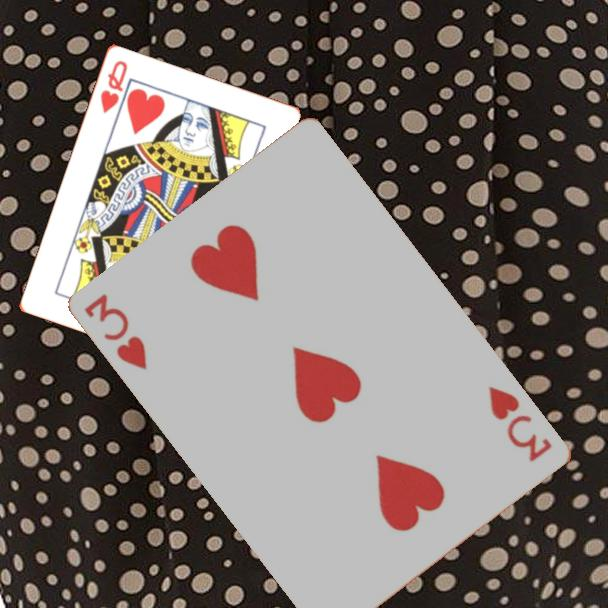h03: (81, 290, 151, 374), (485, 383, 556, 465)
h12: (97, 56, 130, 116)
